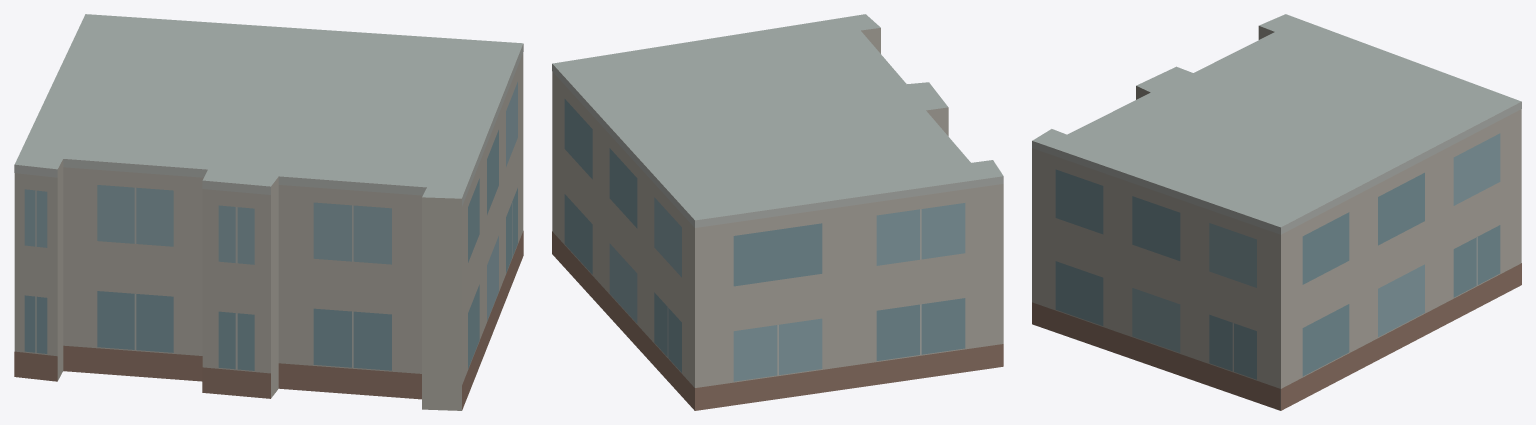
File: survey-upis-32881875.glb
3 views of the same model, side by side, from view 1: azimuth 30°, elevation 25°; view 2: azimuth 150°, elevation 25°; view 3: azimuth 270°, elevation 25° (orthographic). The views are drawn at different scales.
Visible parts, largest first — view 1: survey-upis-32881875.tmp; view 2: survey-upis-32881875.tmp; view 3: survey-upis-32881875.tmp.
Boxes of the visible parts, x1,y1,x2,y2 form: survey-upis-32881875.tmp: (14,14,523,410); survey-upis-32881875.tmp: (552,14,1003,410); survey-upis-32881875.tmp: (1032,14,1521,410).
Size of the model in its own units: 15.23 by 6.1 by 14.77.
